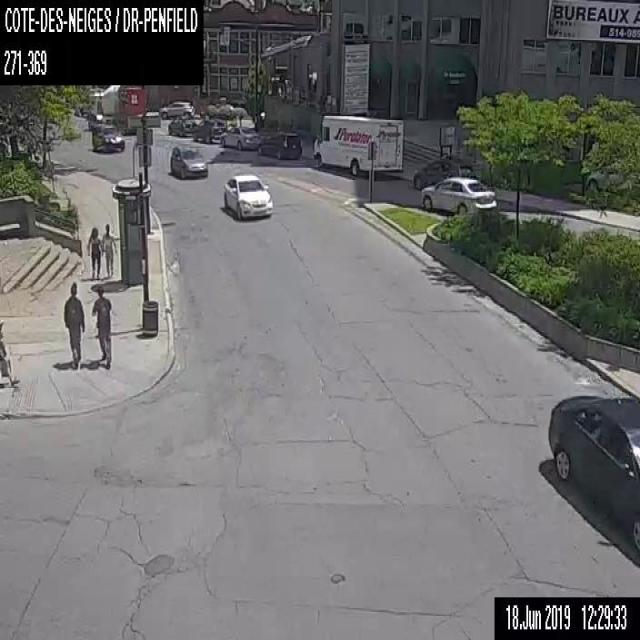pedestrian: (62, 278, 84, 371), (89, 283, 112, 369), (85, 221, 102, 279), (100, 222, 116, 276)
vehicle: (546, 390, 639, 554), (311, 112, 405, 179), (420, 176, 496, 213), (88, 84, 146, 131), (222, 173, 272, 220), (412, 158, 473, 188), (168, 143, 208, 180), (257, 129, 303, 159), (220, 125, 260, 150), (91, 122, 124, 152), (192, 118, 225, 143), (159, 100, 193, 120), (167, 114, 197, 136)
